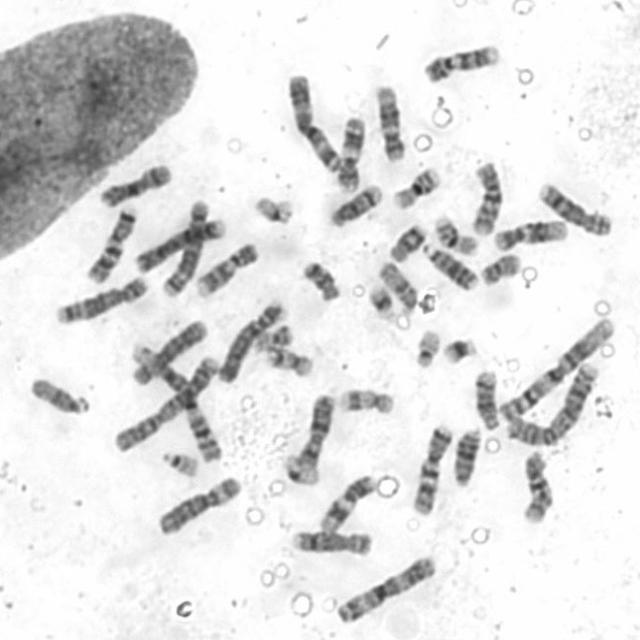A1: (495, 313, 618, 424), (120, 342, 223, 463)
A2: (111, 348, 223, 457), (499, 357, 601, 447)
A3: (332, 552, 438, 626), (283, 68, 343, 174)
B4: (213, 296, 289, 384), (132, 210, 229, 274)
B5: (158, 195, 211, 298), (52, 273, 150, 325)
C10: (465, 157, 506, 237), (518, 446, 557, 525)
C11: (315, 470, 378, 534), (333, 114, 367, 194)
C12: (488, 213, 571, 253), (371, 82, 407, 163)
C6: (127, 315, 211, 388), (154, 470, 243, 536)
C7: (82, 199, 140, 285), (409, 420, 454, 517)
C8: (536, 178, 613, 238), (289, 526, 376, 556)
C9: (191, 236, 261, 298), (419, 38, 501, 84)
D13: (419, 239, 480, 292), (450, 421, 483, 487)
D14: (323, 180, 385, 229), (471, 366, 502, 432)
D15: (26, 371, 94, 416), (374, 256, 420, 315)
E16: (389, 163, 442, 212), (431, 212, 479, 257)
E17: (262, 343, 315, 379), (335, 384, 396, 415)
E18: (298, 255, 342, 302), (385, 220, 428, 264)
F19: (249, 190, 296, 226), (280, 450, 321, 486)
F20: (475, 248, 523, 287), (251, 318, 296, 353)
G21: (363, 277, 398, 322), (439, 332, 479, 366)
G22: (411, 326, 442, 370), (158, 448, 199, 478)
X: (93, 158, 174, 208), (294, 391, 337, 471)
